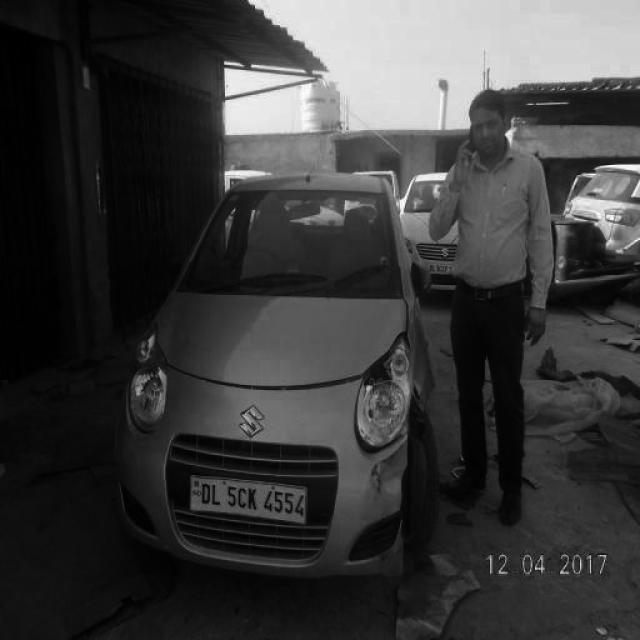car damage: (397, 389, 427, 579), (359, 335, 409, 391), (380, 432, 408, 500), (367, 458, 386, 504)
